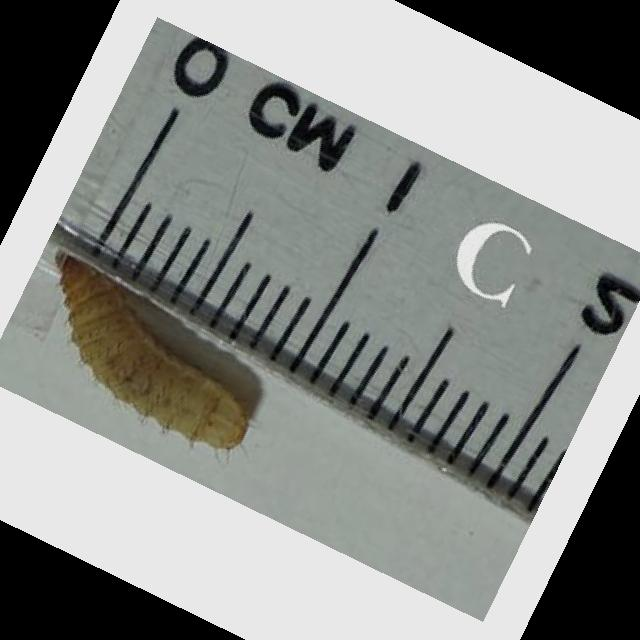Maggot: (47, 249, 245, 454)
